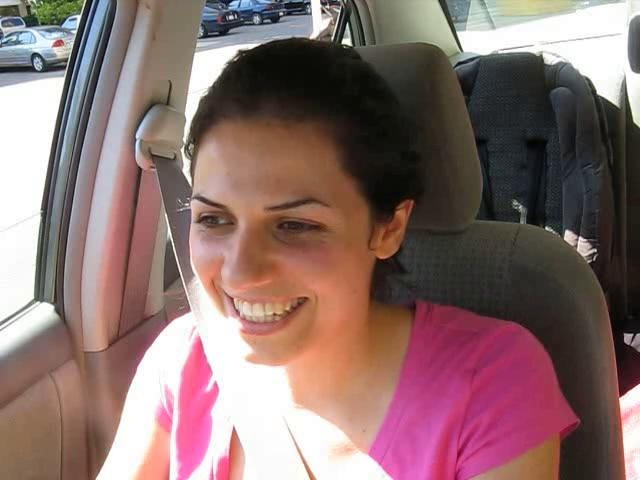close_eyeL: (182, 199, 244, 243)
close_eyeR: (258, 200, 344, 250)
no_yawn: (208, 275, 321, 348)
